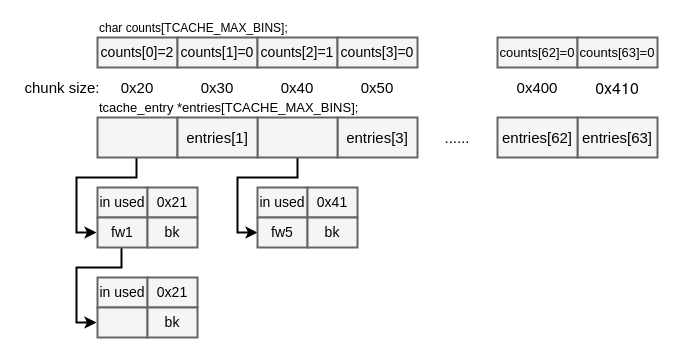
Some shapes in this 675 by 355 pixel diagram are drawn without their labels. The shapes that lost their labels are listed below. From the top down, each one's centre as x and y in pixels, then its label:
At point (137, 137): "entries[0]".
At point (297, 137): "entries[2]".
At point (122, 322): "fw2".
